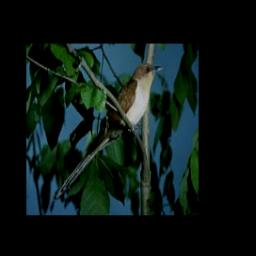Cuckoo: (53, 60, 166, 204)
